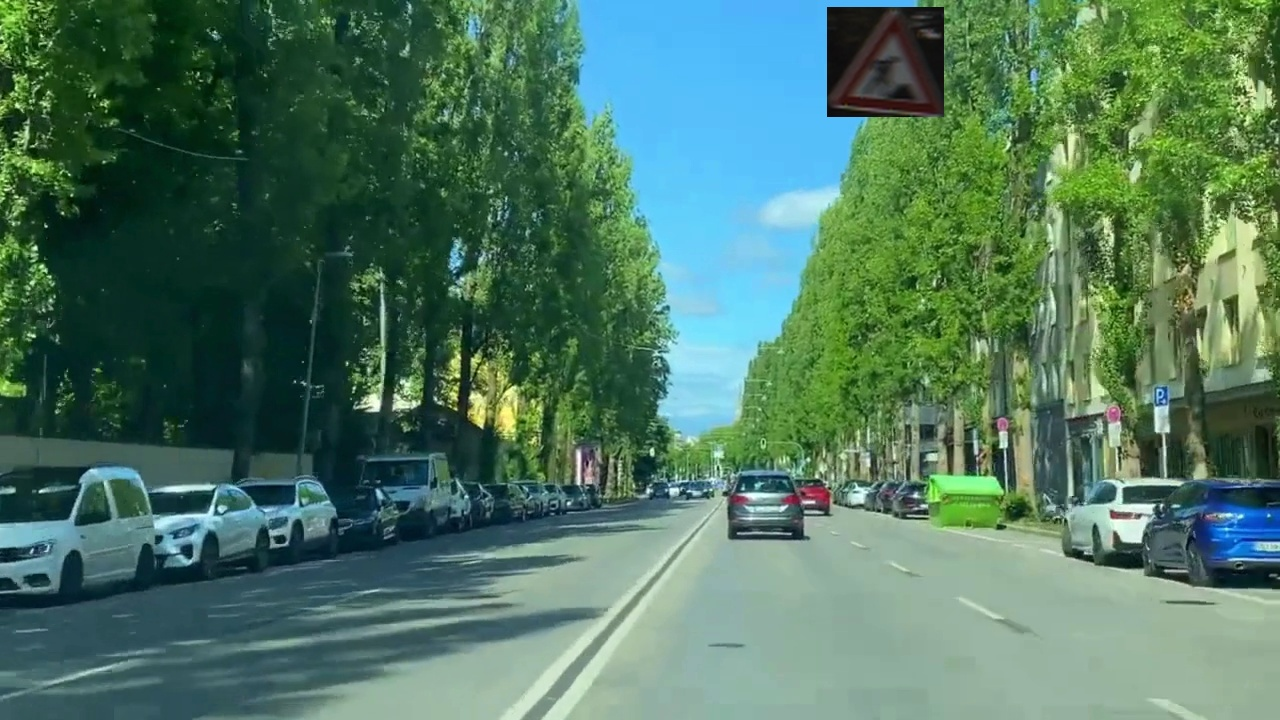Road work: (827, 7, 944, 117)
